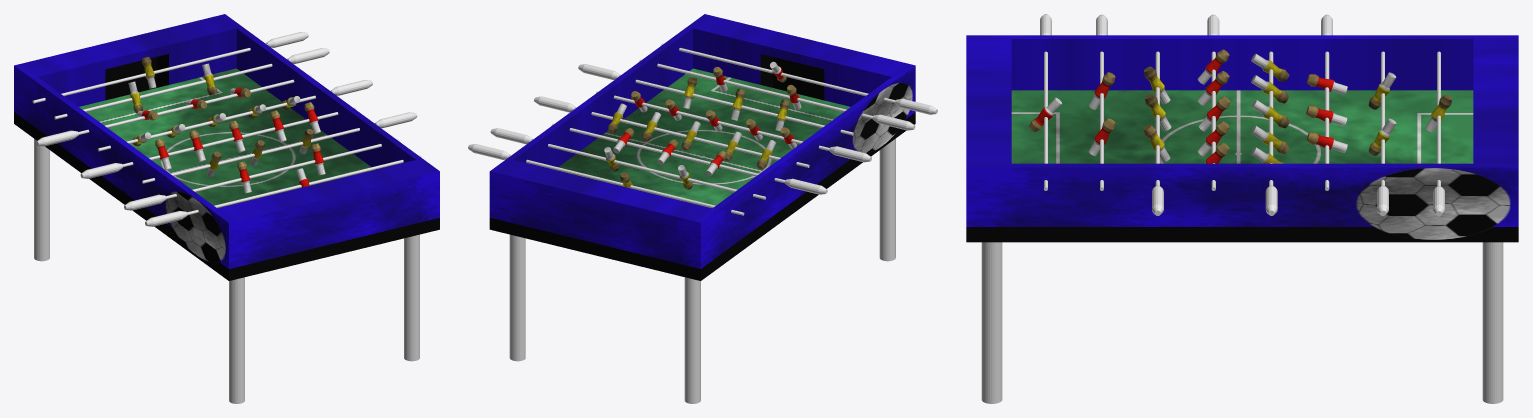
The model's file is kicker.fbx.
The picture shows the model from 3 angles, left to right: view 1: azimuth 30°, elevation 25°; view 2: azimuth 150°, elevation 25°; view 3: azimuth 270°, elevation 25°; orthographic projection. The views are drawn at different scales.
Visible parts, largest first — view 1: Cube.042, Cylinder.061, Cylinder.058, Cylinder.060, Cylinder.059, Cylinder.062, Cylinder.063; view 2: Cube.042, Cylinder.061, Cylinder.058, Cylinder.060, Cylinder.062, Cylinder.059, Cylinder.063; view 3: Cube.042, Cylinder.058, Cylinder.059, Cylinder.062, Cylinder.061, Cylinder.060.
Boxes of the visible parts, x1=… form: Cube.042: x1=14, y1=14, x2=439, y2=280; Cylinder.061: x1=32, y1=43, x2=421, y2=215; Cylinder.058: x1=229, y1=234, x2=419, y2=403; Cylinder.060: x1=36, y1=32, x2=417, y2=226; Cylinder.059: x1=137, y1=87, x2=325, y2=193; Cylinder.062: x1=128, y1=57, x2=313, y2=176; Cylinder.063: x1=34, y1=139, x2=49, y2=261; Cube.042: x1=489, y1=14, x2=915, y2=280; Cylinder.061: x1=509, y1=43, x2=895, y2=215; Cylinder.058: x1=509, y1=138, x2=895, y2=361; Cylinder.060: x1=468, y1=64, x2=937, y2=194; Cylinder.062: x1=604, y1=77, x2=789, y2=189; Cylinder.059: x1=613, y1=61, x2=801, y2=176; Cylinder.063: x1=684, y1=277, x2=700, y2=403; Cube.042: x1=966, y1=35, x2=1518, y2=242; Cylinder.058: x1=981, y1=242, x2=1503, y2=403; Cylinder.059: x1=1029, y1=49, x2=1347, y2=163; Cylinder.062: x1=1143, y1=53, x2=1452, y2=163; Cylinder.061: x1=1044, y1=51, x2=1440, y2=190; Cylinder.060: x1=1040, y1=14, x2=1444, y2=216.
Bounding box in the file's own units: 447 × 263 × 529.
